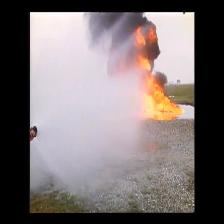fire: (135, 29, 182, 118)
smoke: (88, 14, 135, 62)
